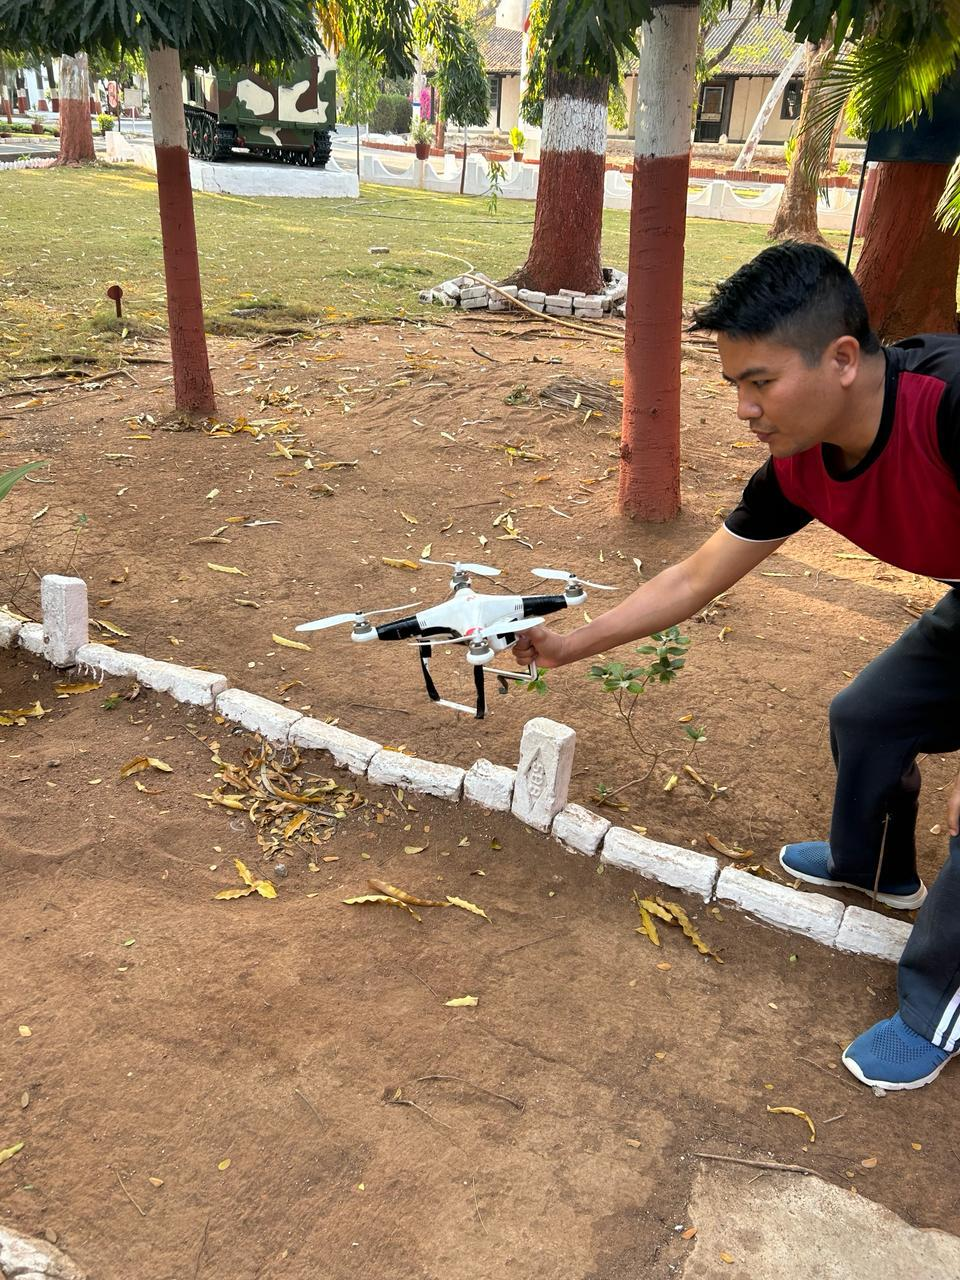drone: (292, 556, 623, 721)
